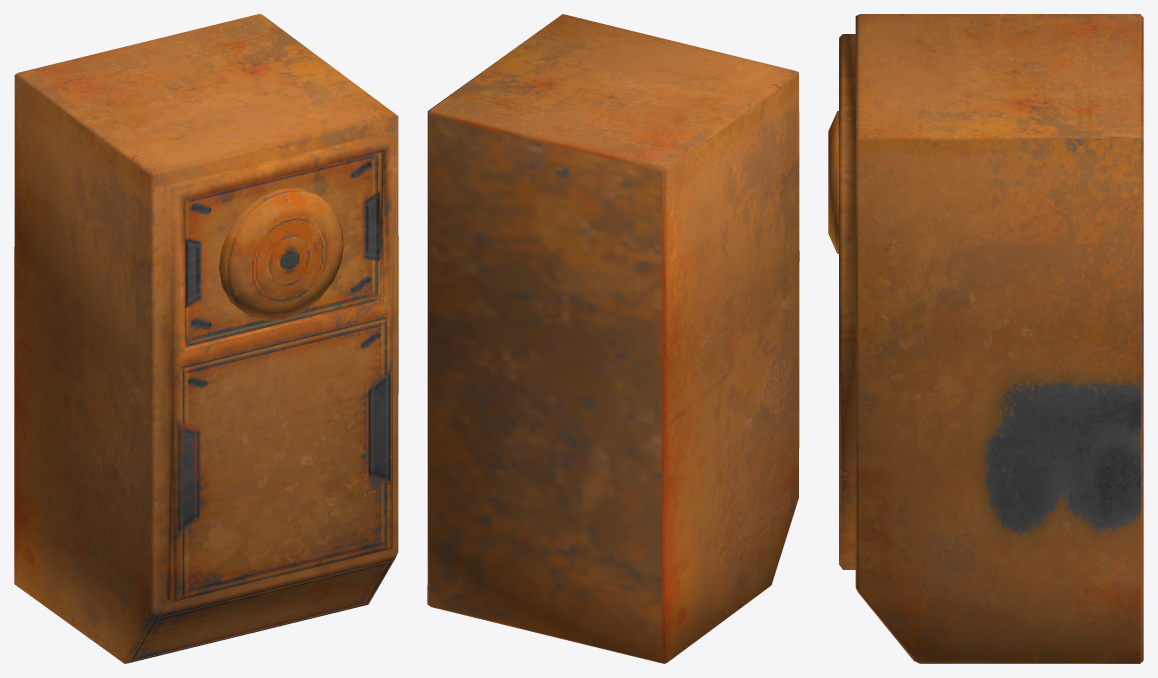
File: 05_01_adon_box_large_01.DAE
3 views of the same model, side by side, from view 1: azimuth 30°, elevation 25°; view 2: azimuth 150°, elevation 25°; view 3: azimuth 270°, elevation 25° (orthographic). The views are drawn at different scales.
Visible parts, largest first — view 1: box3; view 2: box3; view 3: box3.
Boxes of the visible parts, bbox=[...] form: box3: bbox=[14, 14, 398, 663]; box3: bbox=[427, 14, 799, 663]; box3: bbox=[828, 14, 1143, 663].
Size of the model in its own units: 0.7301 by 1.45 by 0.7824.
